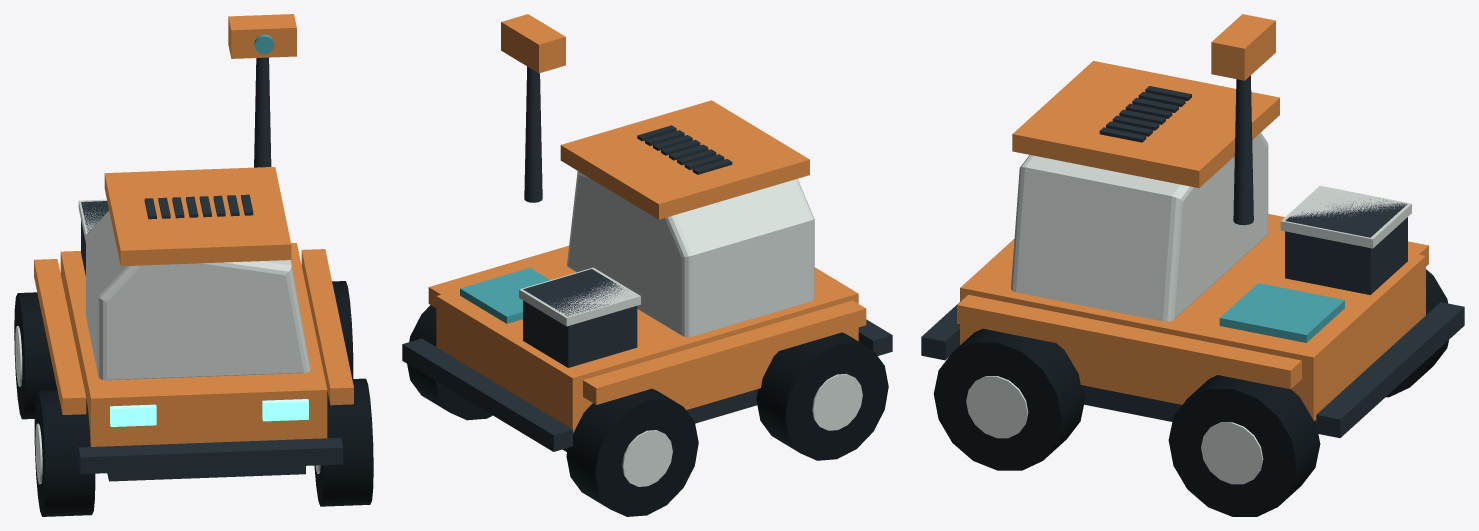
File: rover.glb
The picture shows the model from 3 angles, left to right: view 1: azimuth 30°, elevation 25°; view 2: azimuth 150°, elevation 25°; view 3: azimuth 270°, elevation 25°; orthographic projection. The views are drawn at different scales.
Parts seen in each view (by area): view 1: main/scout/cab, main/scout/chassis, main/scout/canopy, main/scout/frontBumper, main/scout/leftFrontWheel, main/scout/rightFrontWheel, main/scout/leftFender, main/scout/rightFender, main/scout/leftRearWheel, main/scout/camera, main/scout/undercarriage, main/scout/mast (+4 smaller); view 2: main/scout/cab, main/scout/chassis, main/scout/canopy, main/scout/leftFrontWheel, main/scout/leftRearWheel, main/scout/leftFender, main/scout/cargo, main/scout/rearBumper, main/scout/camera, main/scout/cargoStrap, main/scout/solar, main/scout/rightRearWheel (+6 smaller); view 3: main/scout/cab, main/scout/chassis, main/scout/canopy, main/scout/rightRearWheel, main/scout/rightFrontWheel, main/scout/rightFender, main/scout/cargo, main/scout/rearBumper, main/scout/solar, main/scout/cargoStrap, main/scout/camera, main/scout/rightFrontHub (+5 smaller).
Part boxes in pixels (box(x1,y1,x2,y2)): main/scout/cab: box(86, 210, 310, 380); main/scout/chassis: box(60, 243, 327, 446); main/scout/canopy: box(104, 167, 291, 266); main/scout/frontBumper: box(78, 437, 343, 474); main/scout/leftFrontWheel: box(34, 390, 95, 516); main/scout/rightFrontWheel: box(314, 378, 373, 506); main/scout/leftFender: box(34, 259, 86, 414); main/scout/rightFender: box(301, 249, 353, 405); main/scout/leftRearWheel: box(14, 292, 65, 419); main/scout/camera: box(228, 14, 296, 58); main/scout/undercarriage: box(107, 466, 305, 481); main/scout/mast: box(254, 57, 271, 167); main/scout/cab: box(567, 171, 814, 336); main/scout/chassis: box(436, 257, 858, 432); main/scout/canopy: box(560, 100, 809, 219); main/scout/leftFrontWheel: box(756, 332, 888, 460); main/scout/leftRearWheel: box(566, 388, 698, 516); main/scout/leftFender: box(583, 300, 866, 404); main/scout/cargo: box(523, 269, 637, 367); main/scout/rearBumper: box(402, 338, 572, 451); main/scout/camera: box(501, 14, 565, 73); main/scout/cargoStrap: box(519, 267, 640, 326); main/scout/solar: box(460, 268, 549, 323); main/scout/rightRearWheel: box(407, 305, 492, 420); main/scout/cab: box(1011, 132, 1268, 321); main/scout/chassis: box(960, 225, 1425, 421); main/scout/canopy: box(1012, 61, 1279, 187); main/scout/rightRearWheel: box(1168, 375, 1320, 516); main/scout/rightFrontWheel: box(933, 328, 1085, 470); main/scout/rightFender: box(957, 295, 1301, 389); main/scout/cargo: box(1285, 199, 1407, 294); main/scout/rearBumper: box(1316, 302, 1464, 437); main/scout/solar: box(1219, 283, 1344, 342); main/scout/cargoStrap: box(1280, 185, 1411, 248); main/scout/camera: box(1211, 14, 1275, 80); main/scout/rightFrontHub: box(966, 376, 1028, 438).
Size of the model in its own units: 3.42 by 3.31 by 3.69.
